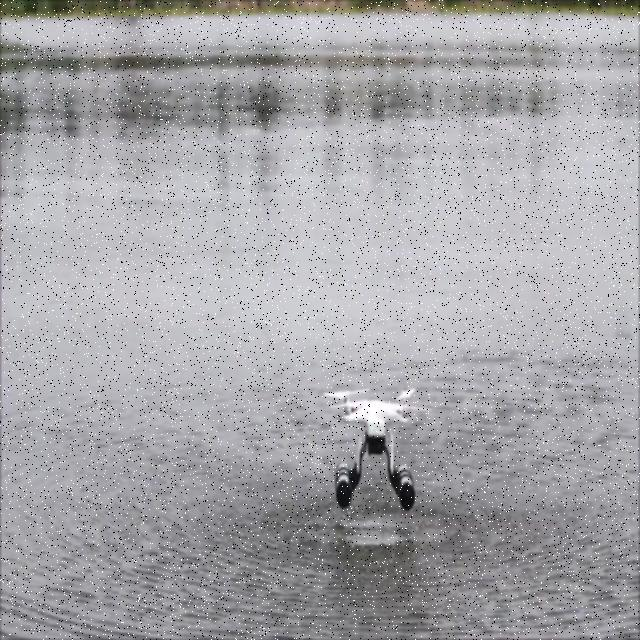UAV: (324, 386, 420, 514)
